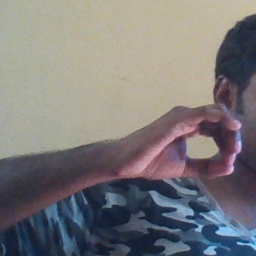O: (111, 103, 242, 187)
